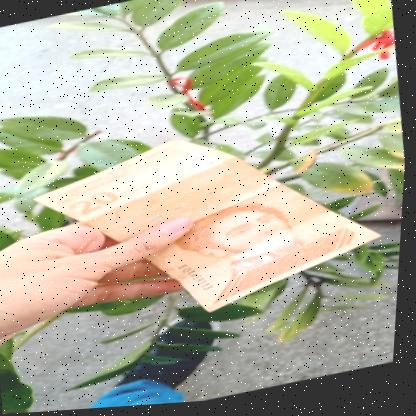twenty-front-vef: (22, 100, 395, 348)
